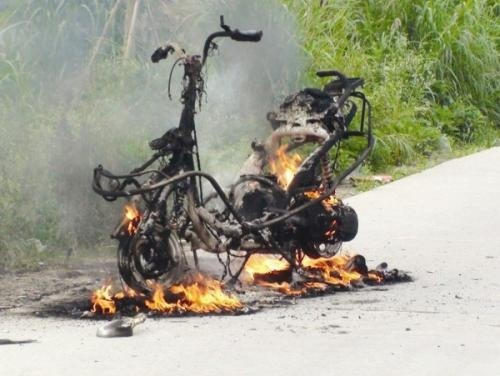fire: (240, 238, 386, 295), (90, 274, 242, 314), (265, 138, 310, 192), (120, 202, 143, 232)
